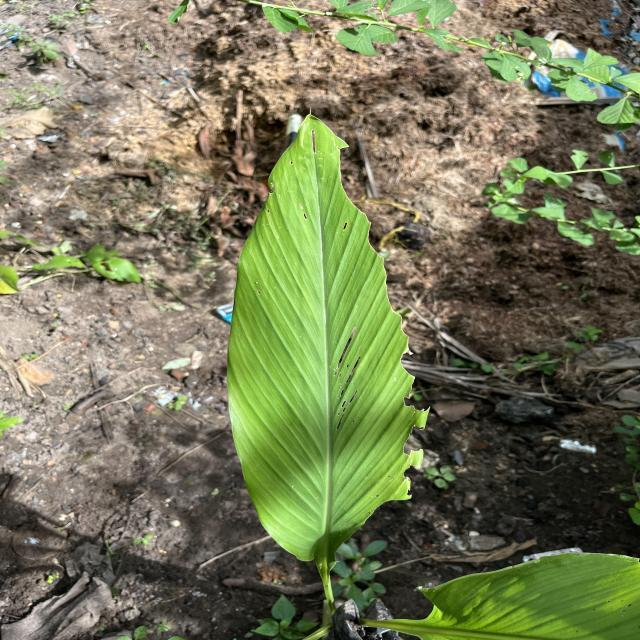Curcuma longa: (223, 108, 434, 566)
